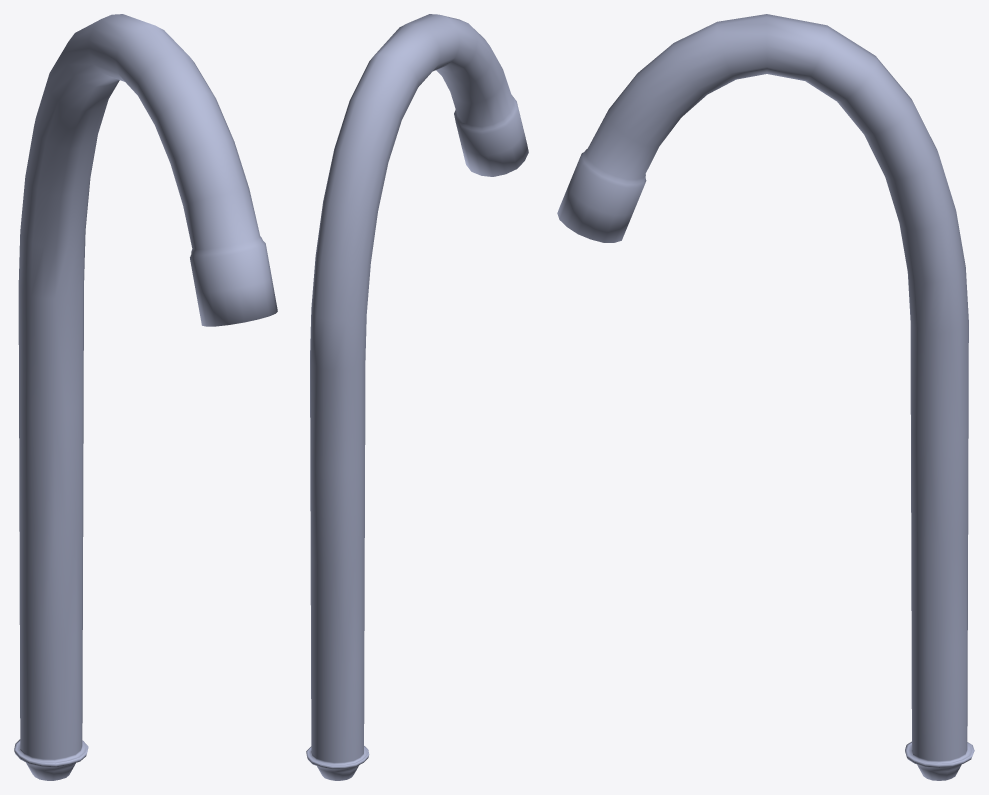
Rendered from Faucet2.fbx.
3 views of the same model, side by side, from view 1: azimuth 30°, elevation 25°; view 2: azimuth 150°, elevation 25°; view 3: azimuth 270°, elevation 25° (orthographic). The views are drawn at different scales.
Visible parts, largest first — view 1: Grifo.005; view 2: Grifo.005; view 3: Grifo.005.
Boxes of the visible parts, x1=… form: Grifo.005: x1=14, y1=14, x2=277, y2=780; Grifo.005: x1=306, y1=14, x2=528, y2=780; Grifo.005: x1=557, y1=14, x2=974, y2=780.
Size of the model in its own units: 2.32 by 27.25 by 13.63.
